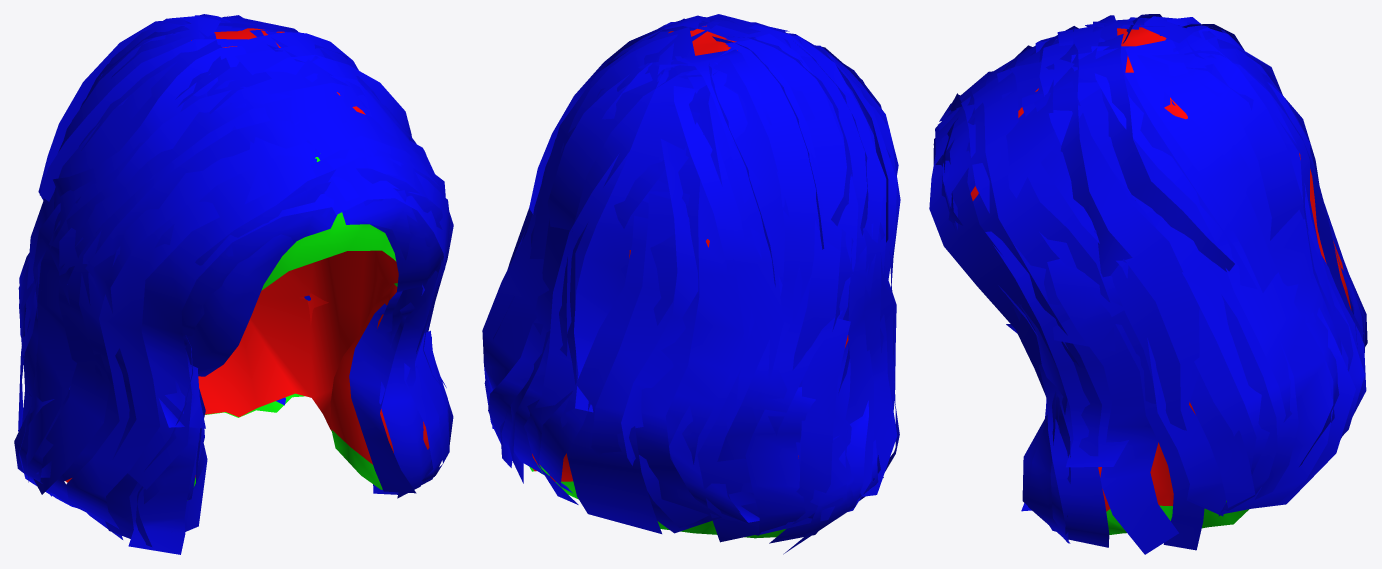
Rendered from hair_008.obj.
The picture shows the model from 3 angles, left to right: view 1: azimuth 30°, elevation 25°; view 2: azimuth 150°, elevation 25°; view 3: azimuth 270°, elevation 25°; orthographic projection. The views are drawn at different scales.
Bounding box in the file's own units: 24.14 × 29.48 × 25.83.
